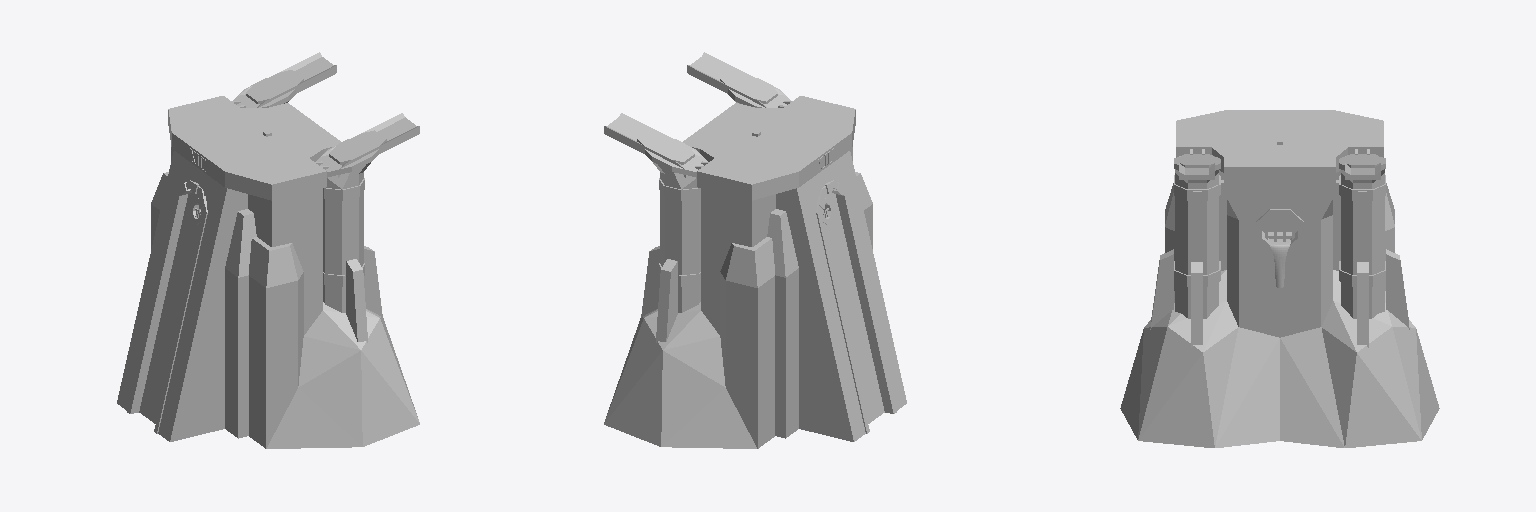
The model's file is 13yard-small.obj.
3 views of the same model, side by side, from view 1: azimuth 30°, elevation 25°; view 2: azimuth 150°, elevation 25°; view 3: azimuth 270°, elevation 25° (orthographic).
Visible parts, largest first — view 1: entity0_brush262, entity0_brush287, entity0_brush306, entity0_brush269, entity0_brush131, entity0_brush133, entity0_brush150, entity0_brush303, entity0_brush253, entity0_brush288, entity0_brush179, entity0_brush294 (+25 smaller); view 2: entity0_brush294, entity0_brush292, entity0_brush307, entity0_brush269, entity0_brush135, entity0_brush137, entity0_brush142, entity0_brush311, entity0_brush256, entity0_brush291, entity0_brush282, entity0_brush262 (+25 smaller); view 3: entity0_brush286, entity0_brush130, entity0_brush146, entity0_brush154, entity0_brush160, entity0_brush134, entity0_brush161, entity0_brush179, entity0_brush282, entity0_brush145, entity0_brush152, entity0_brush180 (+28 smaller).
Boxes of the visible parts, <box> form: entity0_brush262: <box>158,264,224,441</box>; entity0_brush287: <box>266,243,303,448</box>; entity0_brush306: <box>225,268,248,438</box>; entity0_brush269: <box>139,211,200,423</box>; entity0_brush131: <box>299,351,362,446</box>; entity0_brush133: <box>267,388,361,448</box>; entity0_brush150: <box>361,351,419,446</box>; entity0_brush303: <box>249,276,265,448</box>; entity0_brush253: <box>127,192,187,413</box>; entity0_brush288: <box>248,189,320,246</box>; entity0_brush179: <box>323,192,363,256</box>; entity0_brush294: <box>117,233,165,410</box>; entity0_brush294: <box>799,264,865,441</box>; entity0_brush292: <box>720,243,757,448</box>; entity0_brush307: <box>775,268,798,438</box>; entity0_brush269: <box>823,211,884,423</box>; entity0_brush135: <box>661,351,724,446</box>; entity0_brush137: <box>662,388,756,448</box>; entity0_brush142: <box>604,351,662,446</box>; entity0_brush311: <box>758,276,774,448</box>; entity0_brush256: <box>836,192,896,413</box>; entity0_brush291: <box>703,189,775,246</box>; entity0_brush282: <box>660,192,700,256</box>; entity0_brush262: <box>858,233,906,410</box>; entity0_brush286: <box>1239,263,1320,337</box>; entity0_brush130: <box>1138,354,1214,447</box>; entity0_brush146: <box>1345,354,1421,447</box>; entity0_brush154: <box>1280,339,1343,447</box>; entity0_brush160: <box>1216,339,1279,447</box>; entity0_brush134: <box>1280,327,1344,447</box>; entity0_brush161: <box>1215,327,1279,447</box>; entity0_brush179: <box>1175,196,1218,256</box>; entity0_brush282: <box>1341,196,1384,256</box>; entity0_brush145: <box>1357,327,1421,439</box>; entity0_brush152: <box>1138,327,1202,439</box>; entity0_brush180: <box>1224,165,1335,183</box>.
Size of the model in its own units: 712 by 832 by 864.